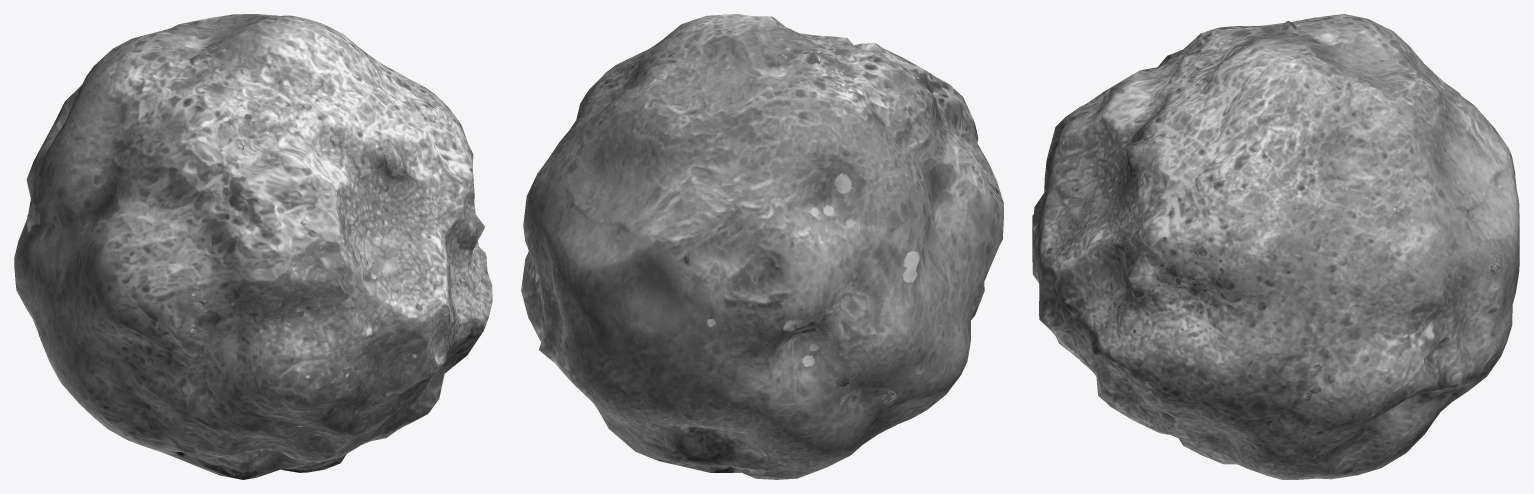
File: big_03.glb
3 renders of one model, left to right at view 1: azimuth 30°, elevation 25°; view 2: azimuth 150°, elevation 25°; view 3: azimuth 270°, elevation 25°, orthographic. The views are drawn at different scales.
Parts seen in each view (by area): view 1: big_03; view 2: big_03; view 3: big_03.
Boxes of the visible parts, <box> form: big_03: <box>14,14,492,479</box>; big_03: <box>521,14,1003,479</box>; big_03: <box>1032,14,1519,479</box>.
Bounding box in the file's own units: 1.69 × 1.7 × 1.86.
1 material, 1 textured.
